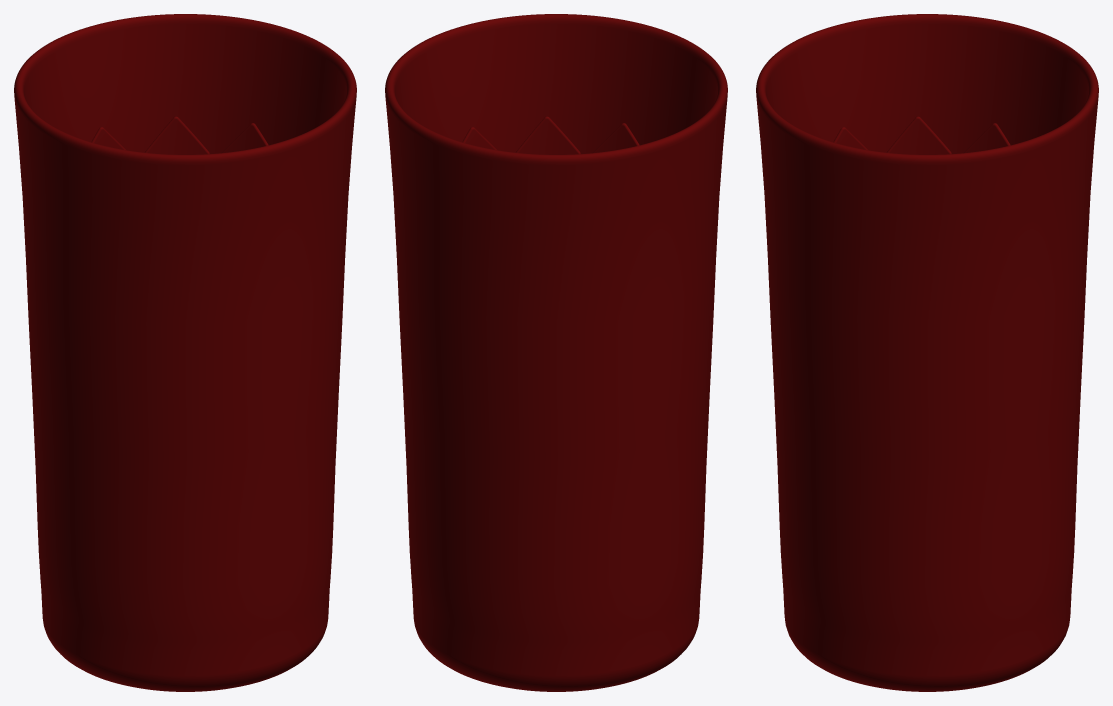
The model's file is tulip80-1.glb.
3 renders of one model, left to right at view 1: azimuth 30°, elevation 25°; view 2: azimuth 150°, elevation 25°; view 3: azimuth 270°, elevation 25°, orthographic.
Size of the model in its own units: 0.069 by 0.1237 by 0.069.
